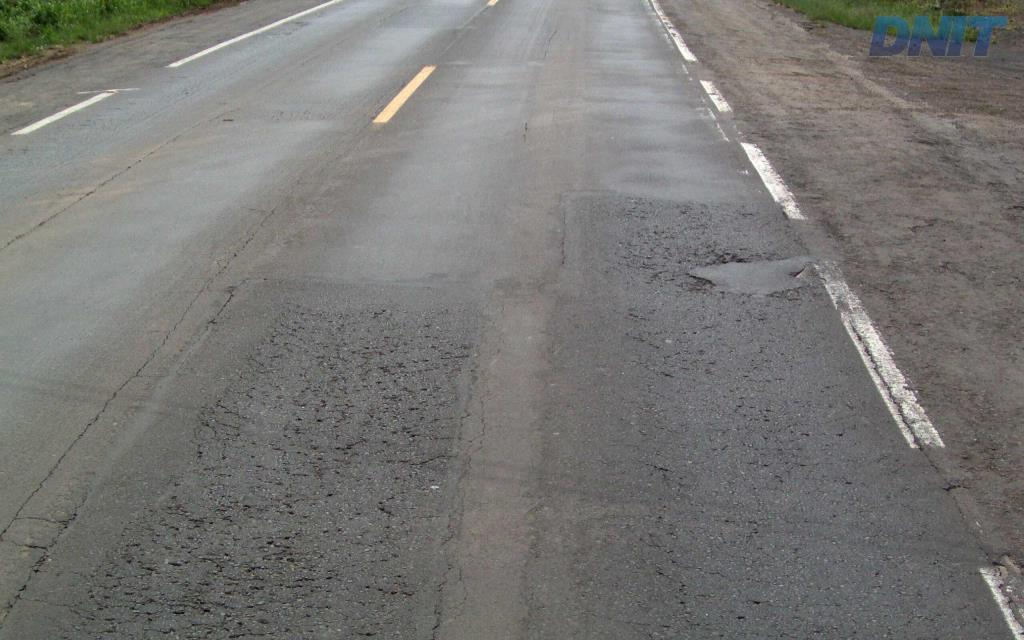crack: (163, 588, 212, 616)
